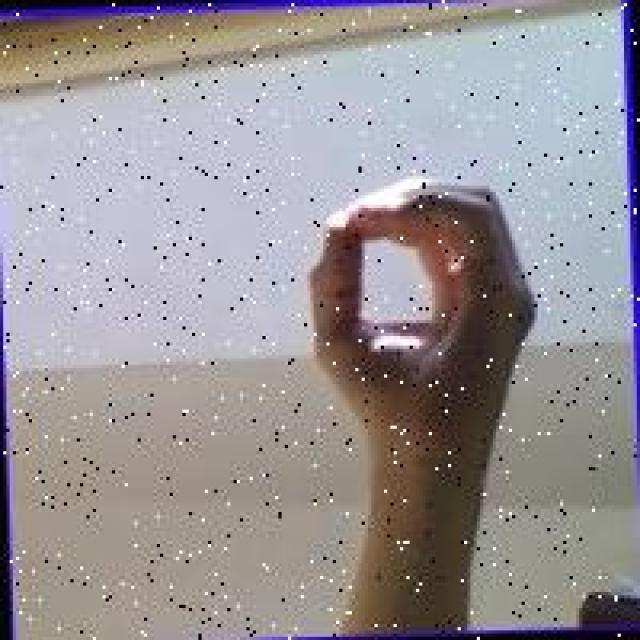O: (298, 171, 547, 450)
